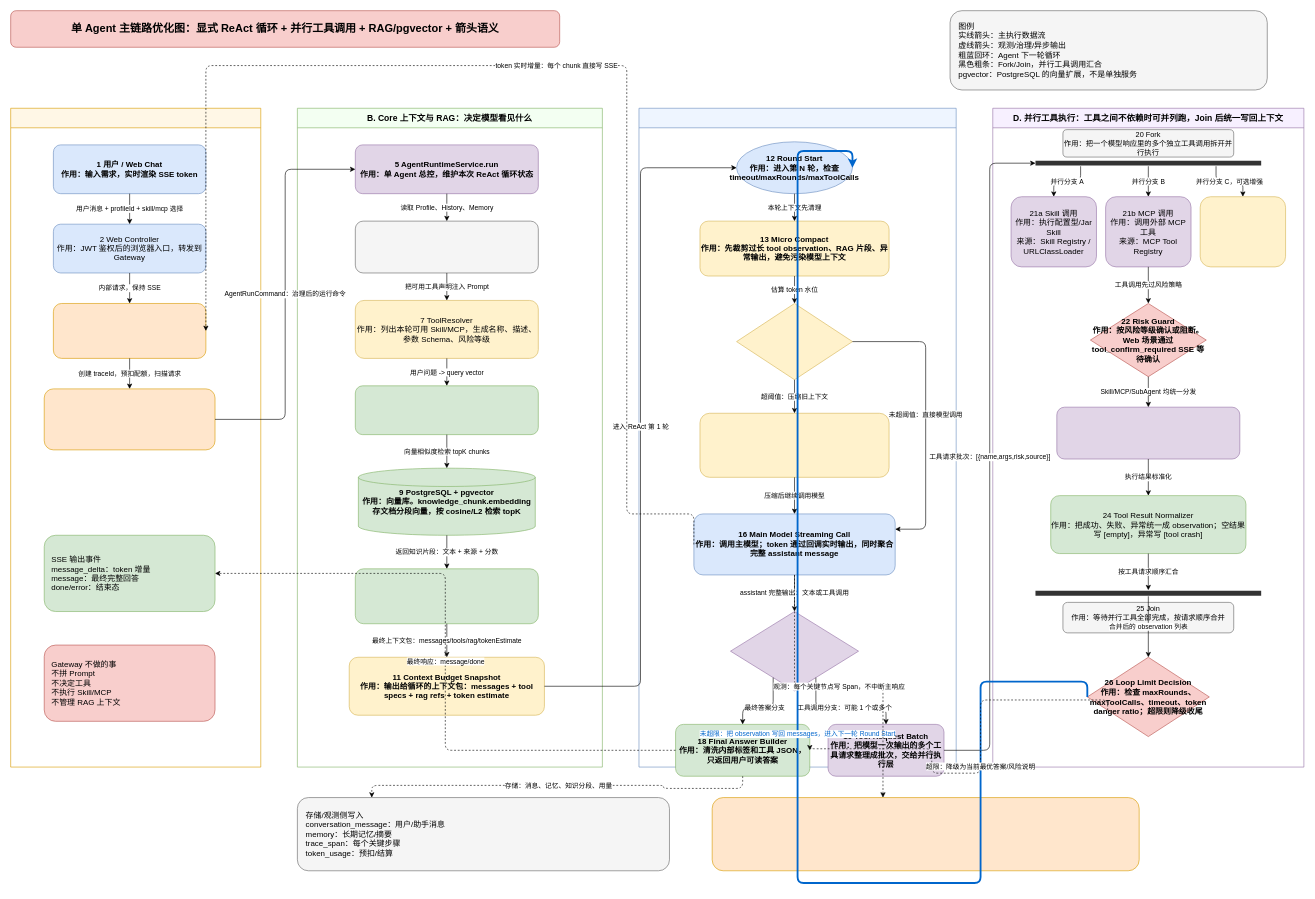
The diagram is 1315 pixels wide and 899 high, and some of its shapes have lost their labels. The box of each missing label's shape, as (x1, y1, x2, y2) in pixels:
10 RAG Context Composer 作用：把 topK 知识片段压缩成“参考资料”，并写入上下文预算: (355, 568, 538, 624)
14 Token Budget Decision 作用：判断是否超过阈值 输入：当前 messages + tools + RAG 的估算 token: (736, 303, 852, 380)
15 Auto Compact / Fallback Trim 作用：旧历史摘要化，保留最近 N 条；摘要失败则保留最近上下文并注入降级说明: (699, 413, 889, 477)
17 Parse Assistant Output 作用：识别最终答案、单个工具调用、多个并行工具调用、或非法输出: (730, 611, 859, 691)
21c Task/SubAgent 调用 作用：复杂子任务委托 增强项：独立上下文、裁剪工具集、防递归: (1200, 196, 1286, 267)
23 ToolDispatcher 作用：统一分发，不让 Runtime 直接依赖 SkillExecutor/McpExecutor: (1056, 407, 1240, 459)
3 Gateway SSE Controller 作用：创建 SSE 输出流，写 message_delta/message/done: (53, 303, 206, 358)
4 Gateway 治理链 作用：Trace Root、Quota 预扣、敏感数据扫描、告警兜底: (44, 388, 215, 450)
6 AgentContextBuilder 作用：组装 System Prompt、Profile Prompt、History、Memory: (355, 221, 538, 273)
8 Query Embedding 作用：把用户问题转成向量，用于相似度检索: (355, 385, 538, 435)
A. 入口与 Gateway 治理：只做入口、安全、SSE，不组装 Agent 上下文: (10, 108, 261, 767)
C. 主模型 ReAct 循环：模型决定下一步，Runtime 负责边界和执行: (638, 108, 956, 767)
全链路治理插点 入站敏感扫描 -> 工具入参扫描 -> 工具结果扫描 -> 最终响应扫描 Trace 只做诊断，不允许打断用户响应；告警失败只记录状态: (712, 797, 1139, 871)
